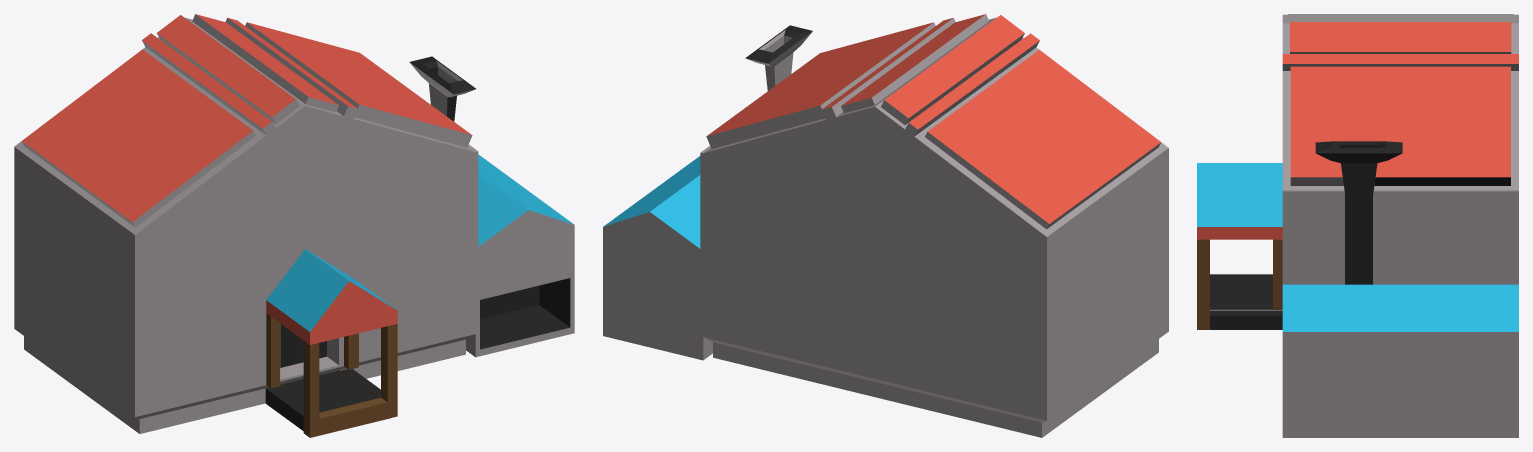
Rendered from big house.fbx.
3 renders of one model, left to right at view 1: azimuth 30°, elevation 25°; view 2: azimuth 150°, elevation 25°; view 3: azimuth 270°, elevation 25°, orthographic. The views are drawn at different scales.
Visible parts, largest first — view 1: Cube; view 2: Cube; view 3: Cube.
Boxes of the visible parts, bbox=[...] form: Cube: bbox=[14, 14, 574, 437]; Cube: bbox=[603, 14, 1168, 437]; Cube: bbox=[1197, 14, 1518, 437].
Bounding box in the file's own units: 435 × 283 × 282.
